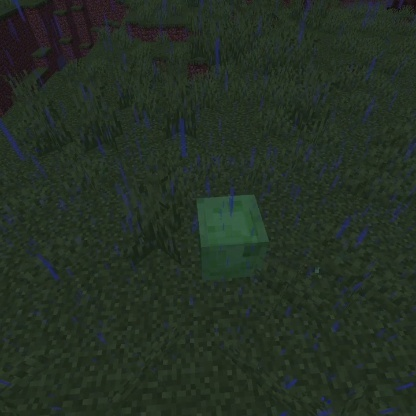slime: (192, 191, 273, 285)
